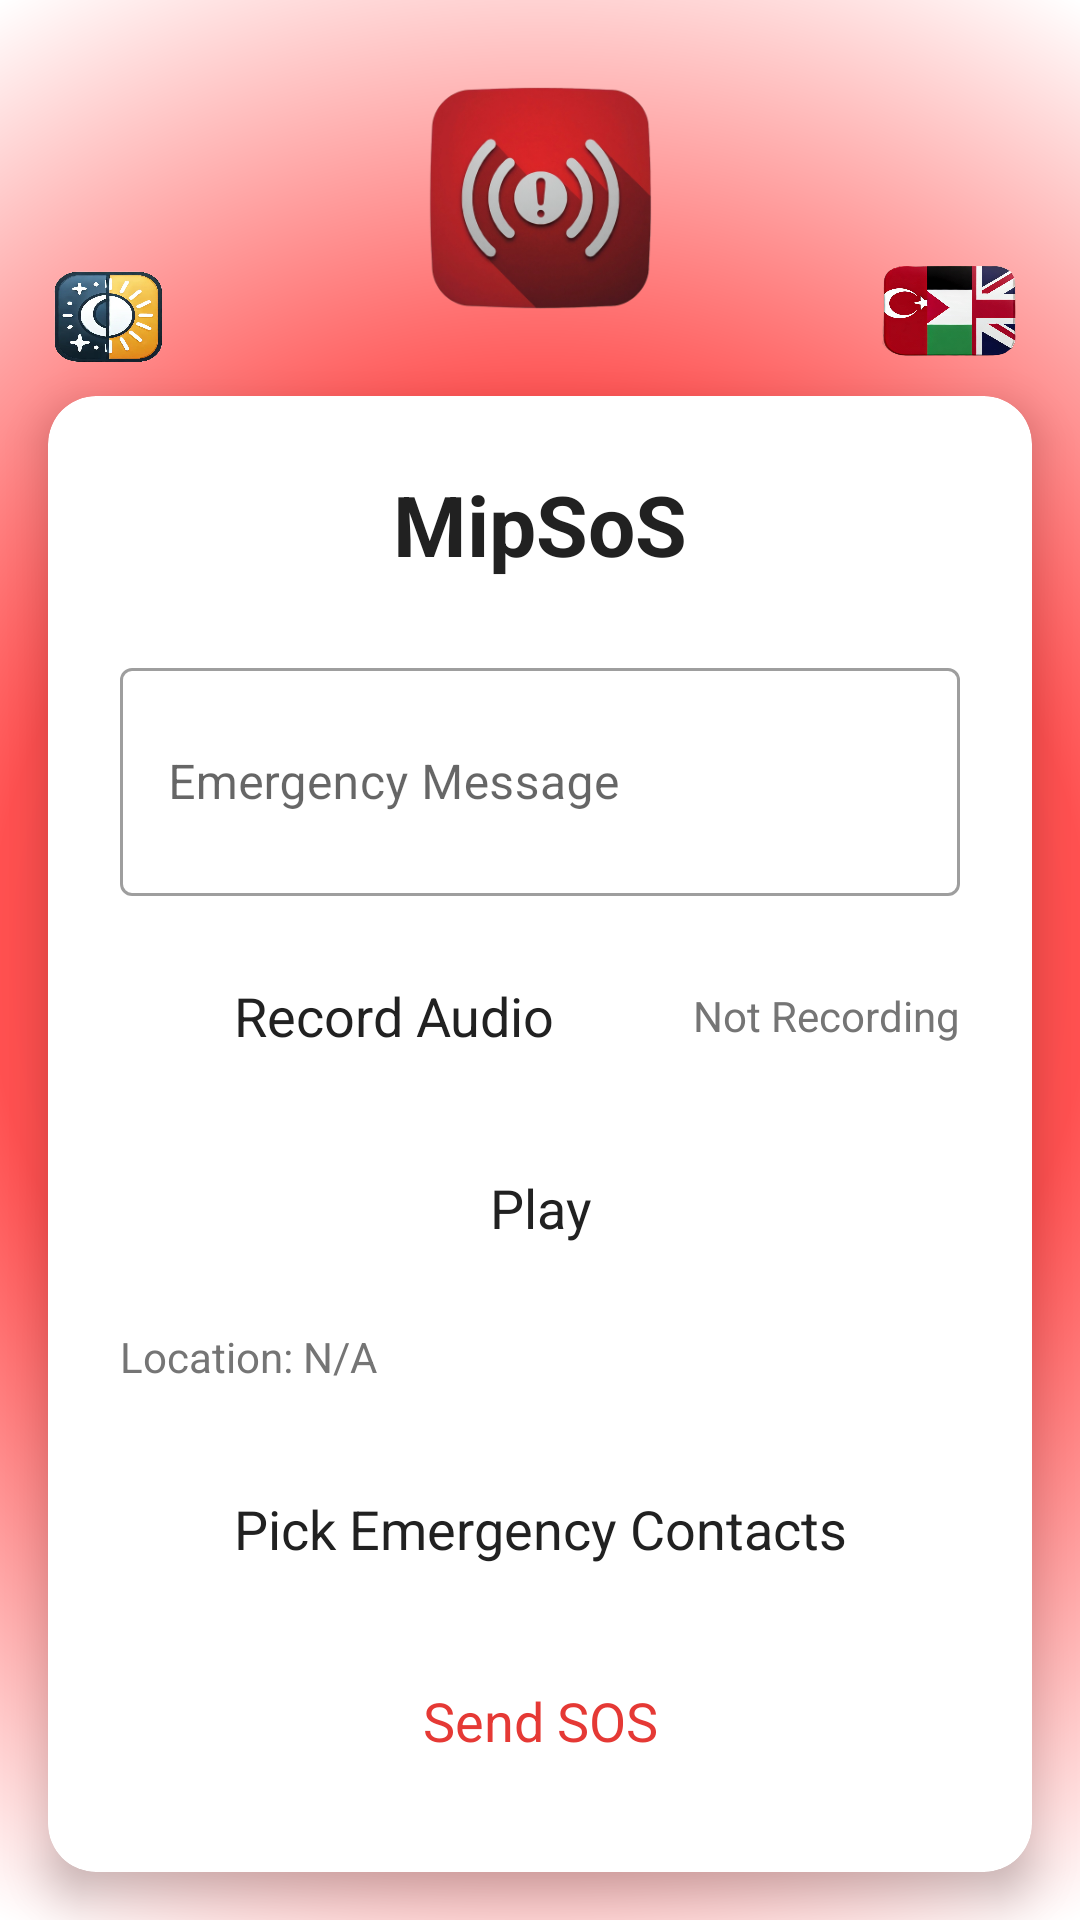

Icon click points for this 1080px x 1920px phone screenshot, format point (x, y):
day night mode: point (108, 317)
language switch: point (939, 320)
